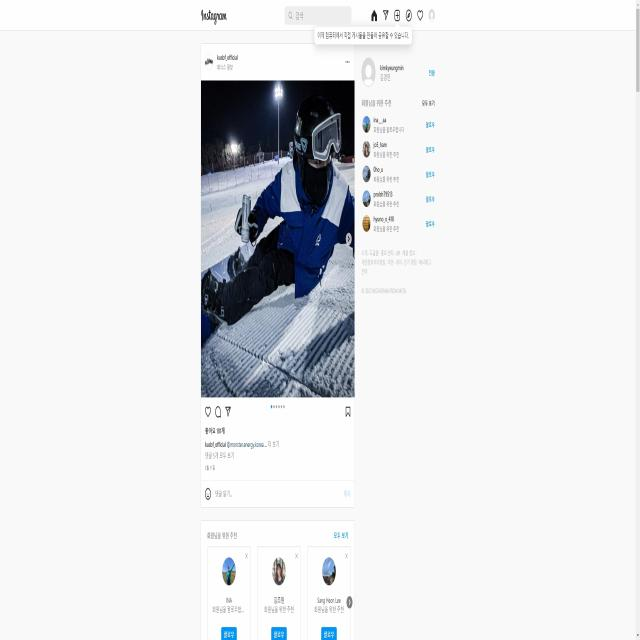menu-bar: (367, 4, 437, 25)
search: (283, 1, 353, 28)
